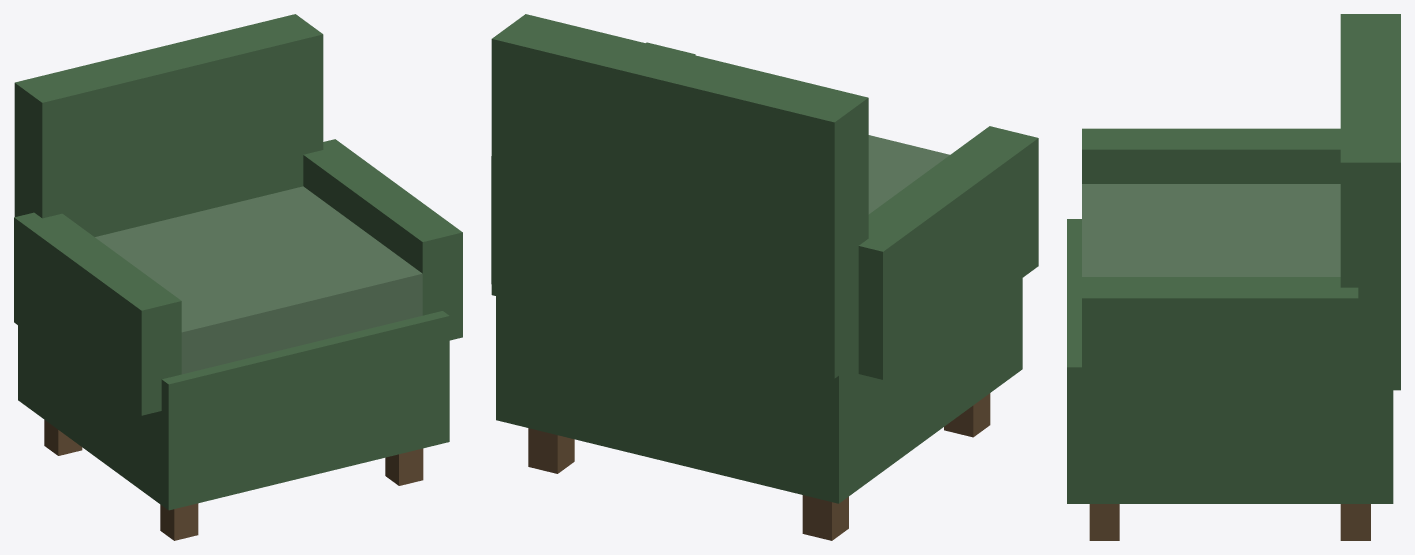
The model's file is armchair.glb.
The picture shows the model from 3 angles, left to right: view 1: azimuth 30°, elevation 25°; view 2: azimuth 150°, elevation 25°; view 3: azimuth 270°, elevation 25°; orthographic projection. The views are drawn at different scales.
Size of the model in its own units: 0.8 by 0.85 by 0.665.
